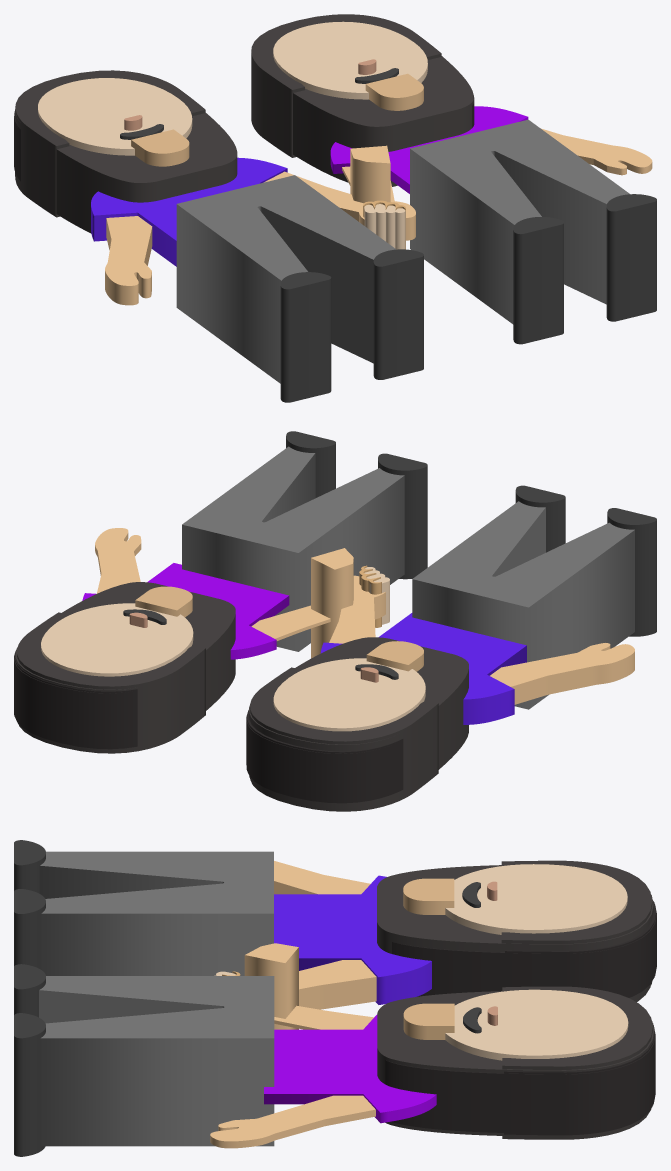
The model's file is emoji_u1f46d_1f3fb.glb.
The picture shows the model from 3 angles, top to bottom: view 1: azimuth 30°, elevation 25°; view 2: azimuth 150°, elevation 25°; view 3: azimuth 270°, elevation 25°; orthographic projection. The views are drawn at different scales.
Parts seen in each view (by area): view 1: emoji_u1f46d_1f3fb; view 2: emoji_u1f46d_1f3fb; view 3: emoji_u1f46d_1f3fb.
Part boxes in pixels (box(x1,y1,x2,y2)): emoji_u1f46d_1f3fb: box(14, 14, 656, 402); emoji_u1f46d_1f3fb: box(14, 431, 656, 811); emoji_u1f46d_1f3fb: box(14, 840, 656, 1156).
Size of the model in its own units: 0.0346 by 0.007 by 0.0334.
